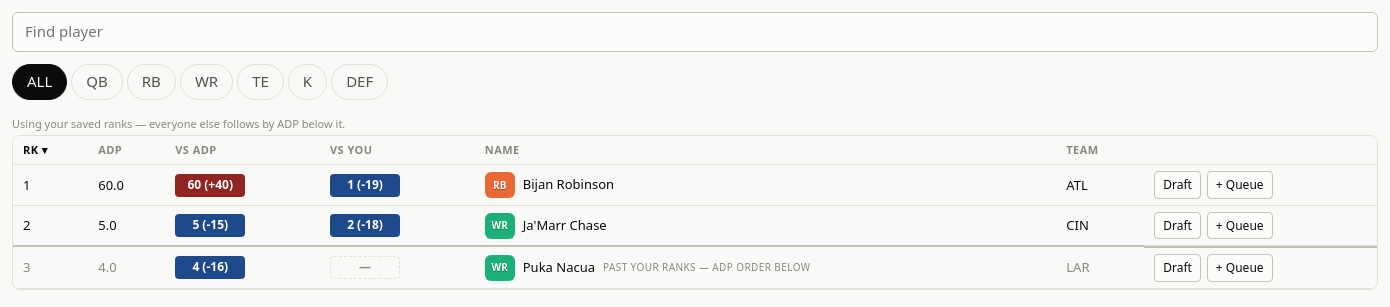
Test: value vs reach › hides the columns inside a position tab
Expected: the text "Bijan Robinson" is shown, [523, 175, 614, 193]
Expected: the column heading "vs ADP" is shown, [165, 136, 320, 165]
Click the tab "RB".
click(151, 82)  # box [127, 64, 176, 100]
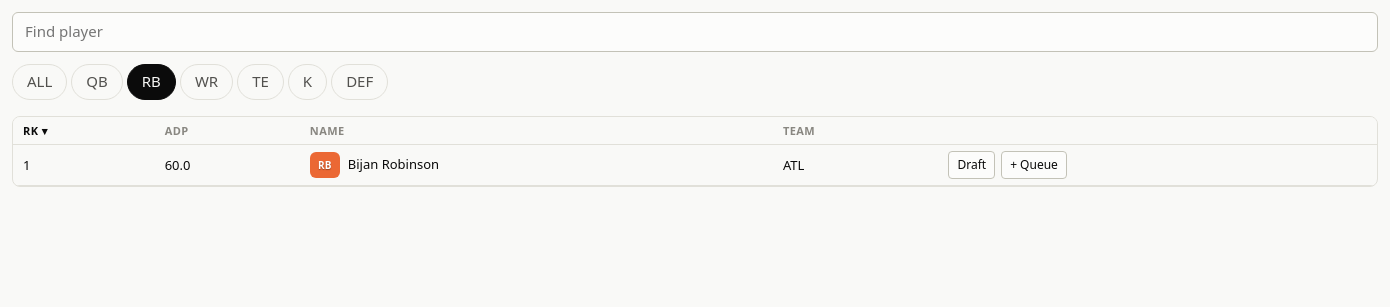
Result: the column heading "vs ADP" is gone
